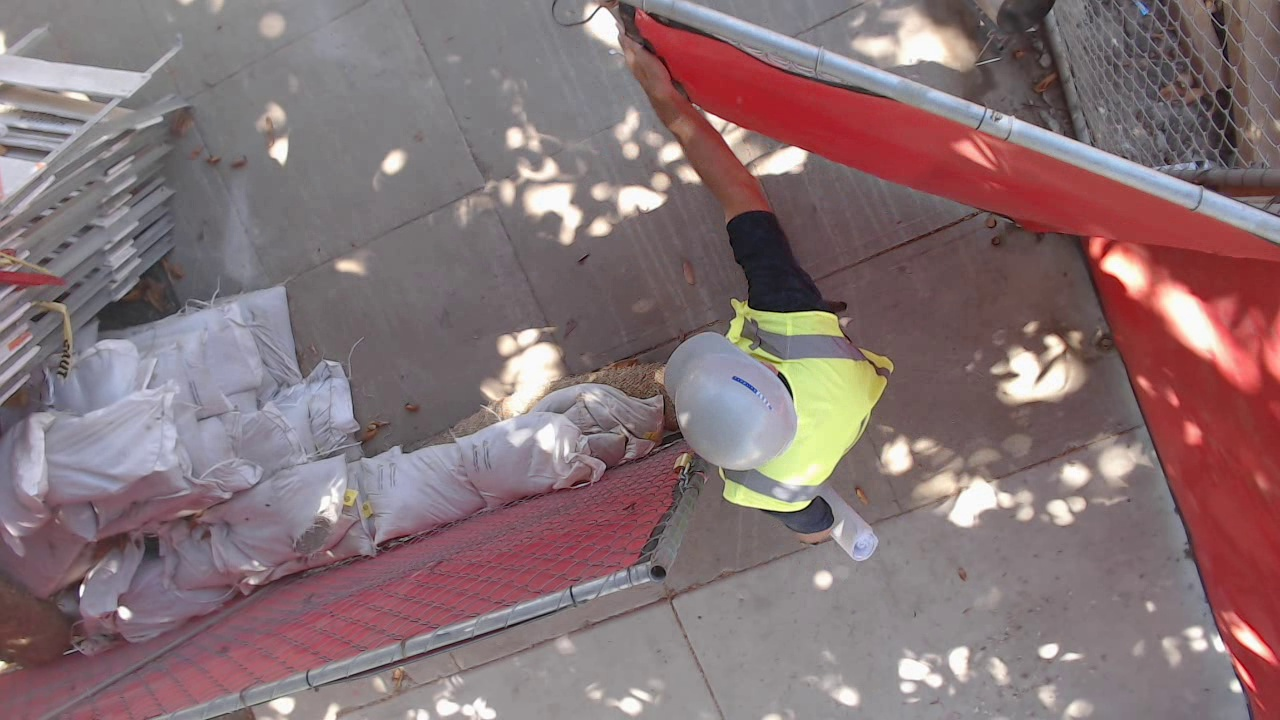hardhat: (661, 331, 798, 473)
person: (662, 187, 895, 546)
safetyvest: (718, 298, 897, 515)
